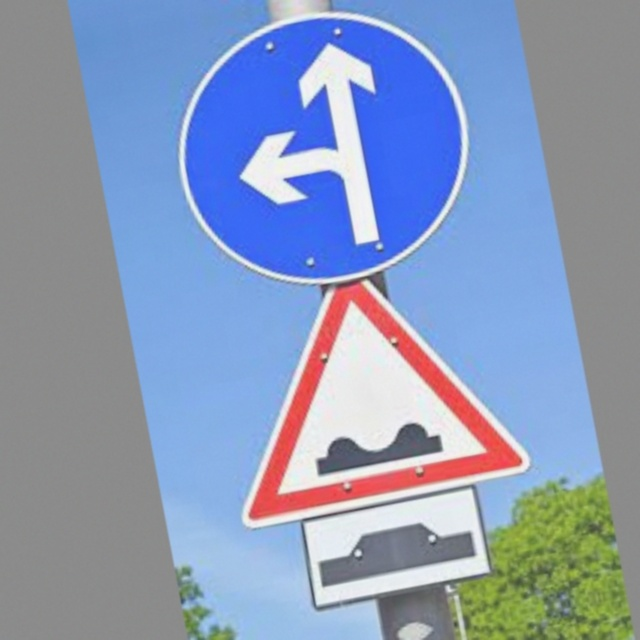Compulsory_Ahead_or_Turn_Left: (149, 1, 505, 309)
